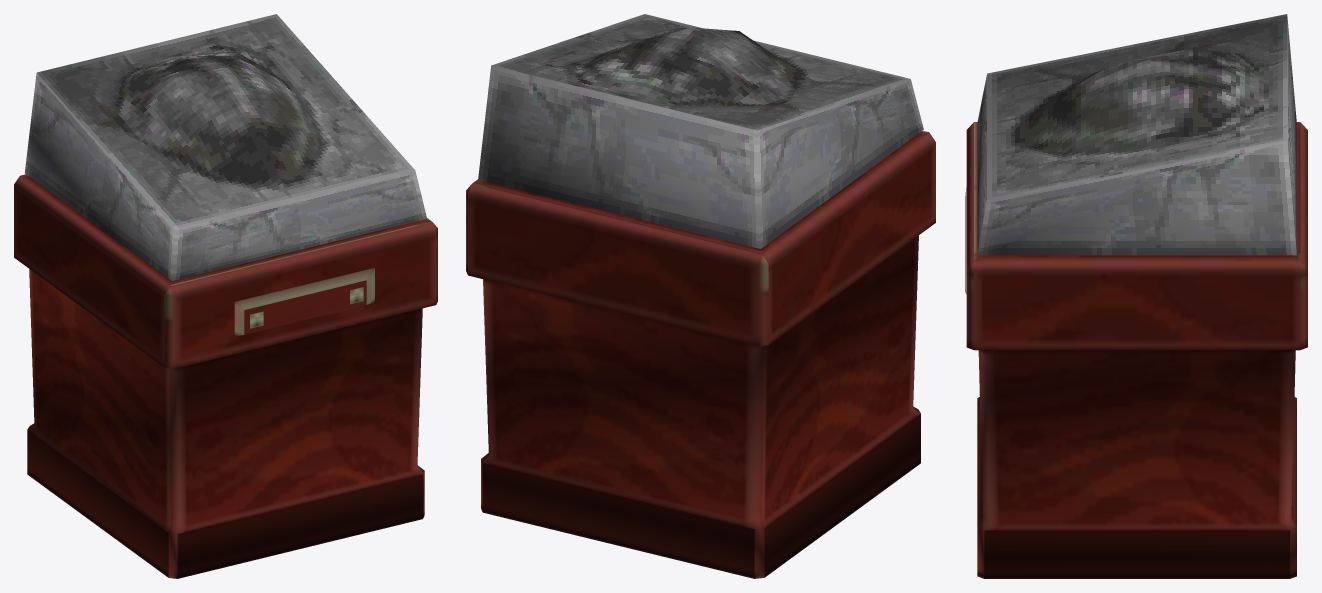
The model's file is int_fos_trilo.dae.
3 views of the same model, side by side, from view 1: azimuth 30°, elevation 25°; view 2: azimuth 150°, elevation 25°; view 3: azimuth 270°, elevation 25° (orthographic). The views are drawn at different scales.
Parts seen in each view (by area): view 1: int_fos_trilo; view 2: int_fos_trilo; view 3: int_fos_trilo.
Boxes of the visible parts, x1,y1,x2,y2 form: int_fos_trilo: [14, 14, 437, 578]; int_fos_trilo: [466, 14, 935, 578]; int_fos_trilo: [965, 14, 1307, 578].
Size of the model in its own units: 27.04 by 39.42 by 27.24.
Materials: 3 (3 with a texture image).
